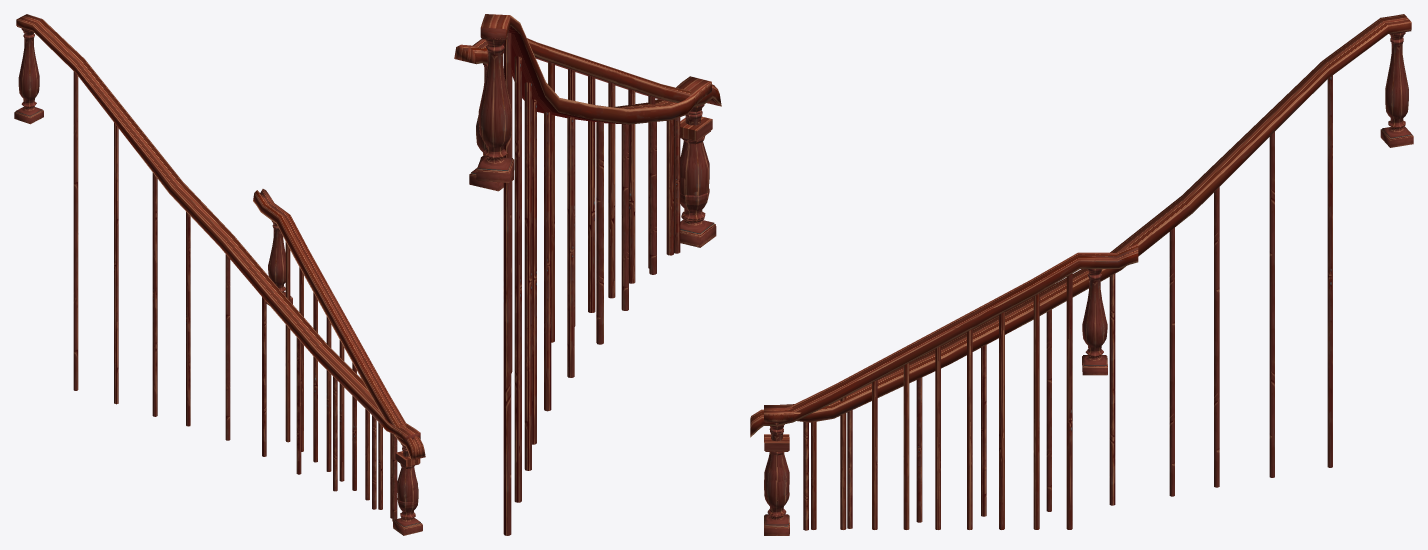
Rendered from MKL_Fences.fbx.
3 views of the same model, side by side, from view 1: azimuth 30°, elevation 25°; view 2: azimuth 150°, elevation 25°; view 3: azimuth 270°, elevation 25° (orthographic). The views are drawn at different scales.
Parts seen in each view (by area): view 1: MKL_StairsFenceBig, MKL_StairsFence, MKL_Fence; view 2: MKL_StairsFenceBig, MKL_StairsFence, MKL_Fence; view 3: MKL_StairsFenceBig, MKL_StairsFence.
Part boxes in pixels (x1,y1,x2,y2): MKL_StairsFenceBig: (14, 14, 422, 534); MKL_StairsFence: (253, 189, 425, 534); MKL_Fence: (393, 451, 421, 535); MKL_StairsFenceBig: (476, 14, 711, 535); MKL_StairsFence: (454, 38, 721, 373); MKL_Fence: (680, 116, 716, 247); MKL_StairsFenceBig: (764, 14, 1413, 535); MKL_StairsFence: (750, 244, 1138, 533).
Bounding box in the file's own units: 1.08 × 2.48 × 3.43.
